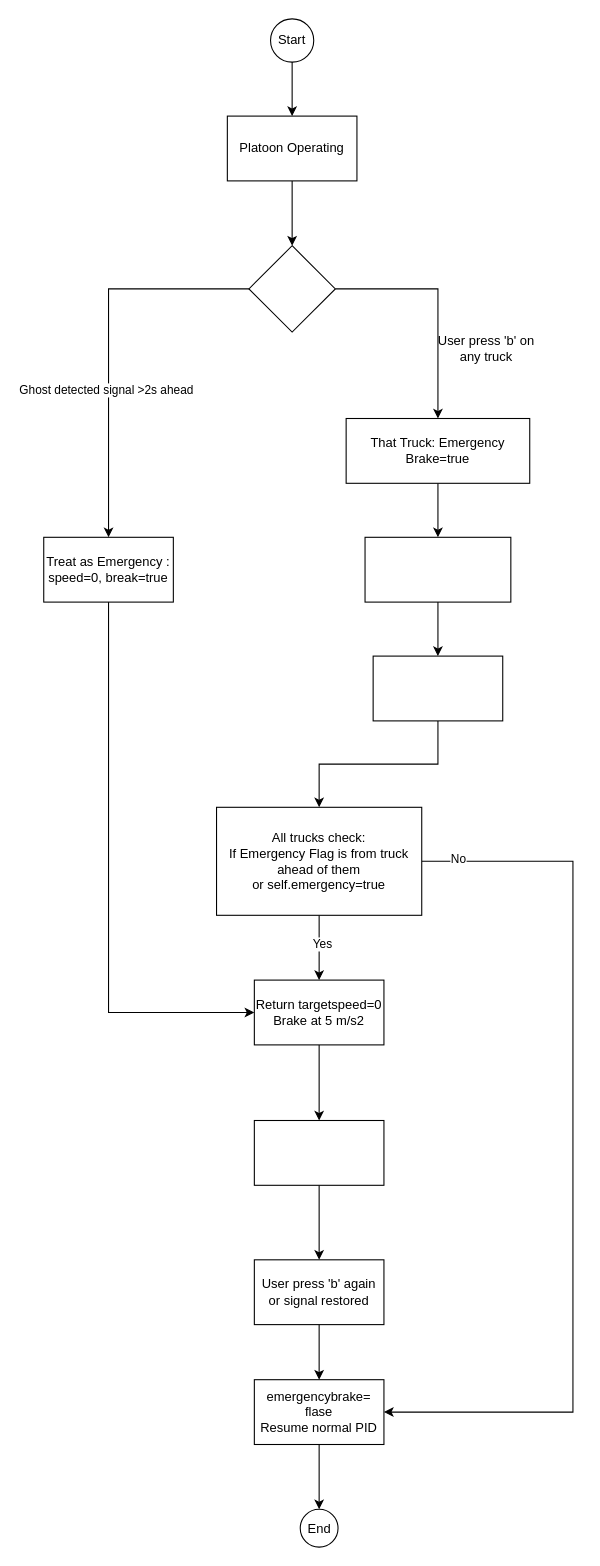
This 600x1566 diagram has some shape labels left out. The shapes that lost their labels are listed below. From the top down, each one's centre as x and y in pixels, then its label:
At pixel 291 288: "Emergency".
At pixel 437 569: "Broadcast emergency flag".
At pixel 437 688: "All tucks receive message".
At pixel 318 1152: "All trucks stopped speed=0".
